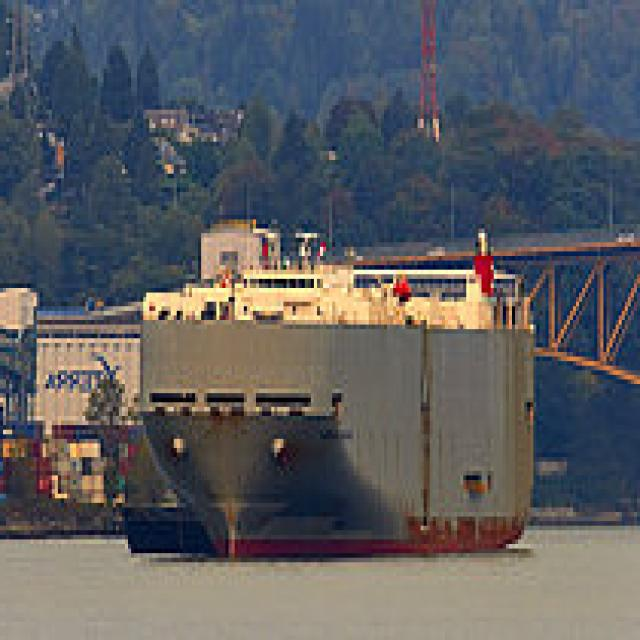Carrier: (140, 220, 543, 562)
